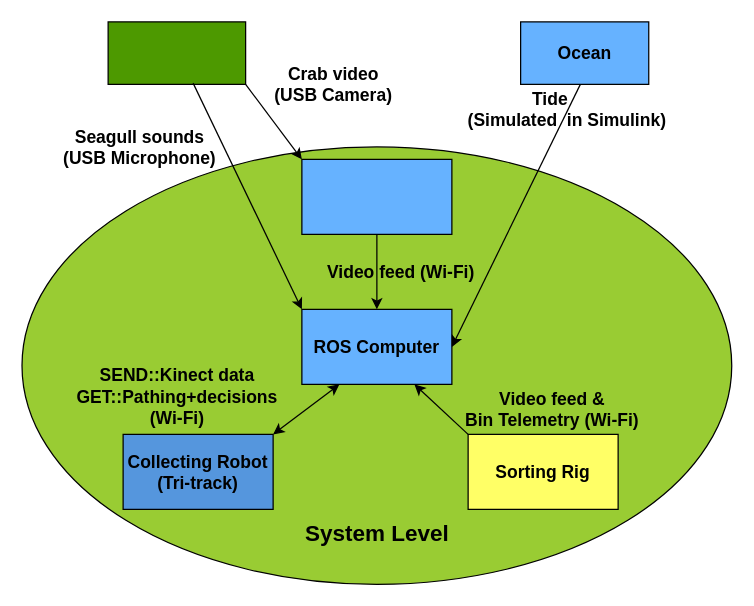
The diagram is 754 pixels wide and 606 high, and some of its shapes have lost their labels. The centre of each missing label's shape, as x and y in pixels:
"Eye in the Sky (Trash detection)" goes at (376,196).
"Wildlife" goes at (176,52).
